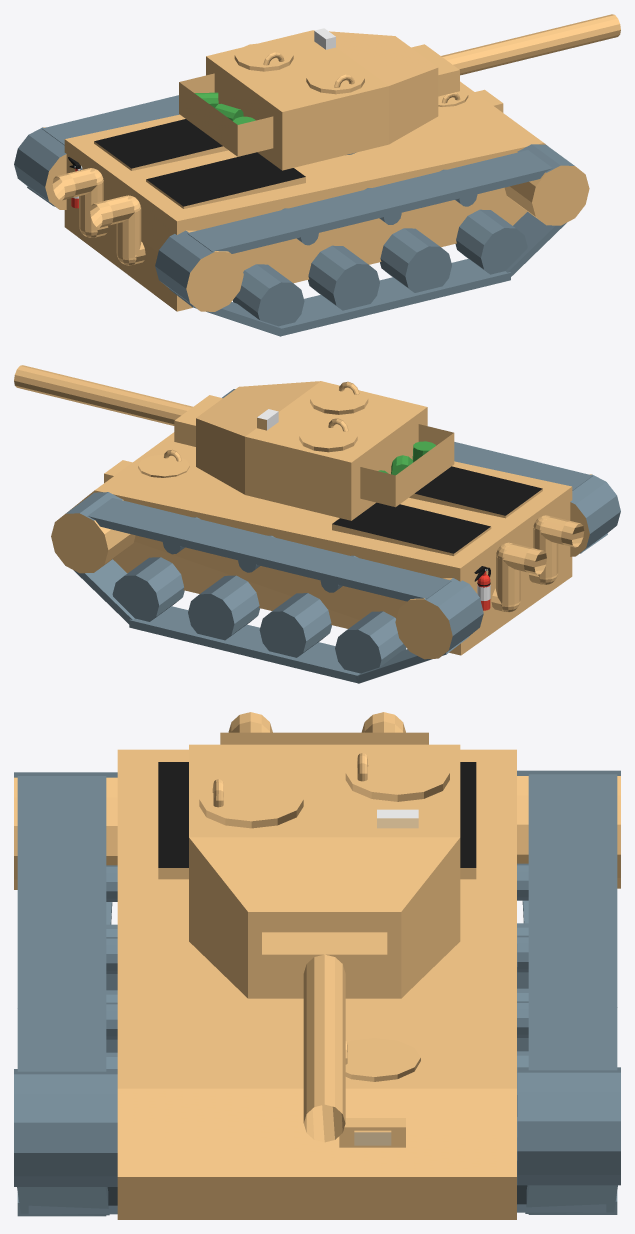
Rendered from Tank.glb.
3 renders of one model, top to bottom at view 1: azimuth 30°, elevation 25°; view 2: azimuth 150°, elevation 25°; view 3: azimuth 270°, elevation 25°, orthographic. The views are drawn at different scales.
Visible parts, largest first — view 1: Node; view 2: Node; view 3: Node.
Boxes of the visible parts, x1=… form: Node: x1=14, y1=14, x2=620, y2=336; Node: x1=14, y1=365, x2=620, y2=683; Node: x1=14, y1=712, x2=620, y2=1219.
Bounding box in the file's own units: 1.5 × 0.5097 × 0.8206.
